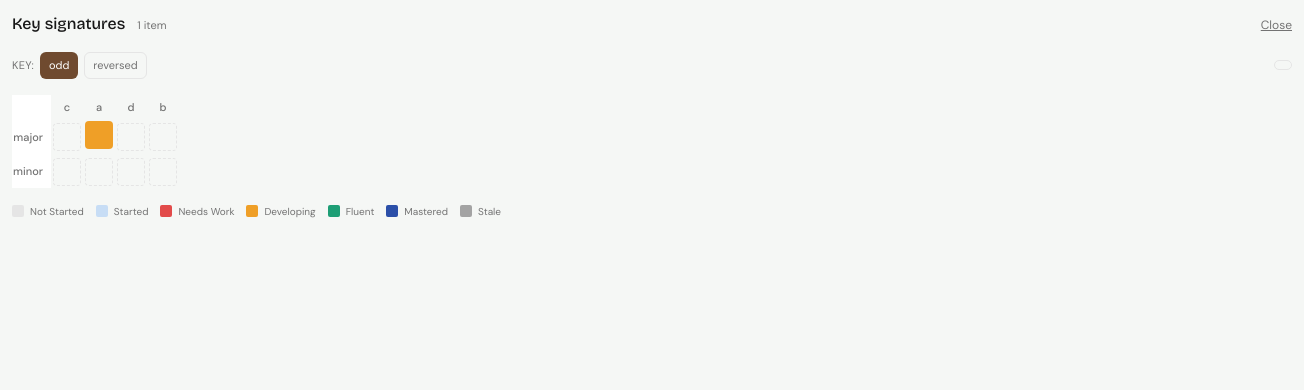
Test case: an item opens onto its real reps › says "no reps recorded" rather than guessing when the window is empty
The image size is (1304, 390).
Click the button with test id "grid-cell". click: {"x": 99, "y": 135}
box: top-left (85, 121), bottom-right (113, 149)
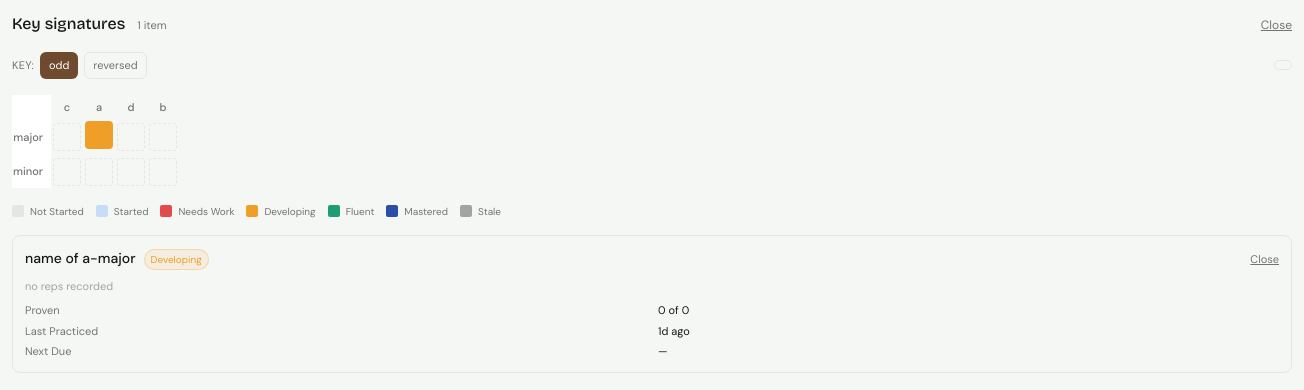
Expected: the element with test id "item-detail" shows "no reps recorded", top-left (25, 278), bottom-right (113, 292)
